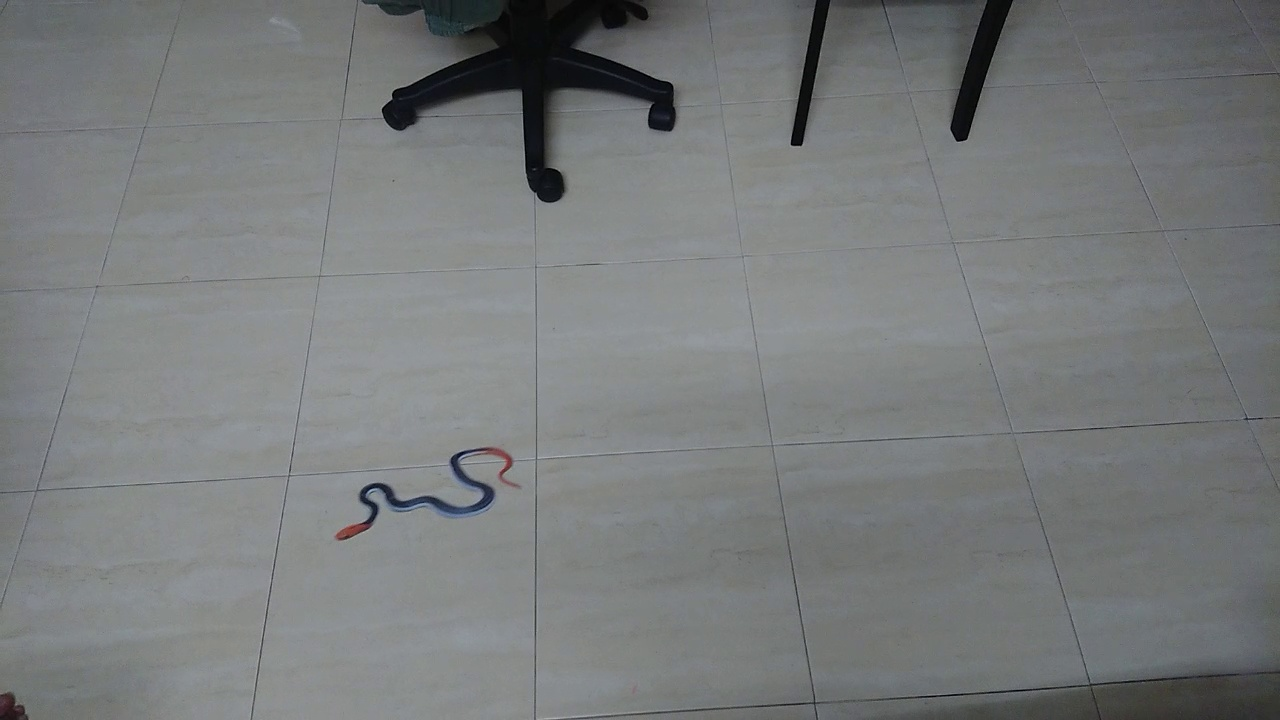snake: (318, 439, 531, 559)
